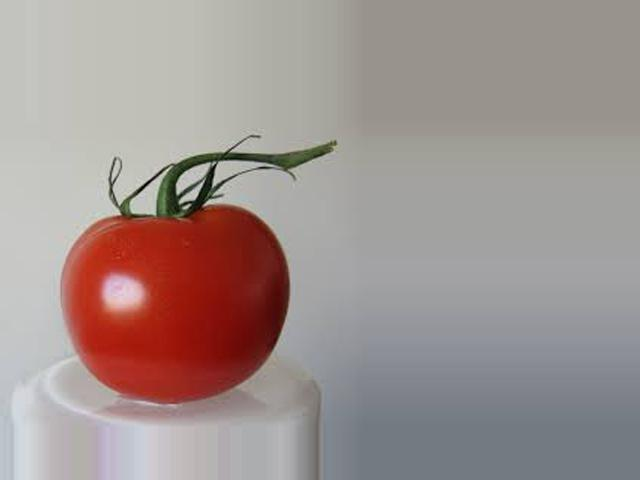tomato: (60, 204, 290, 402)
